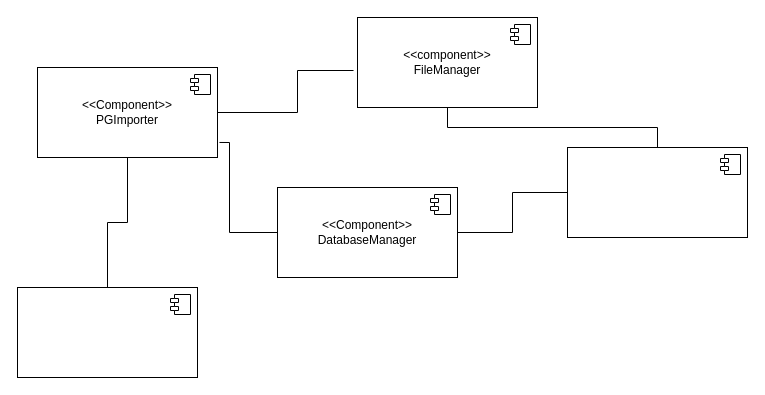
This 765x395 diagram has some shape labels left out. Here are the shapes that lost their labels. From the top down, the centre of each, then its label:
the point at 657,192: <<Component>> OS
the point at 107,332: <<Component>> Backend API
